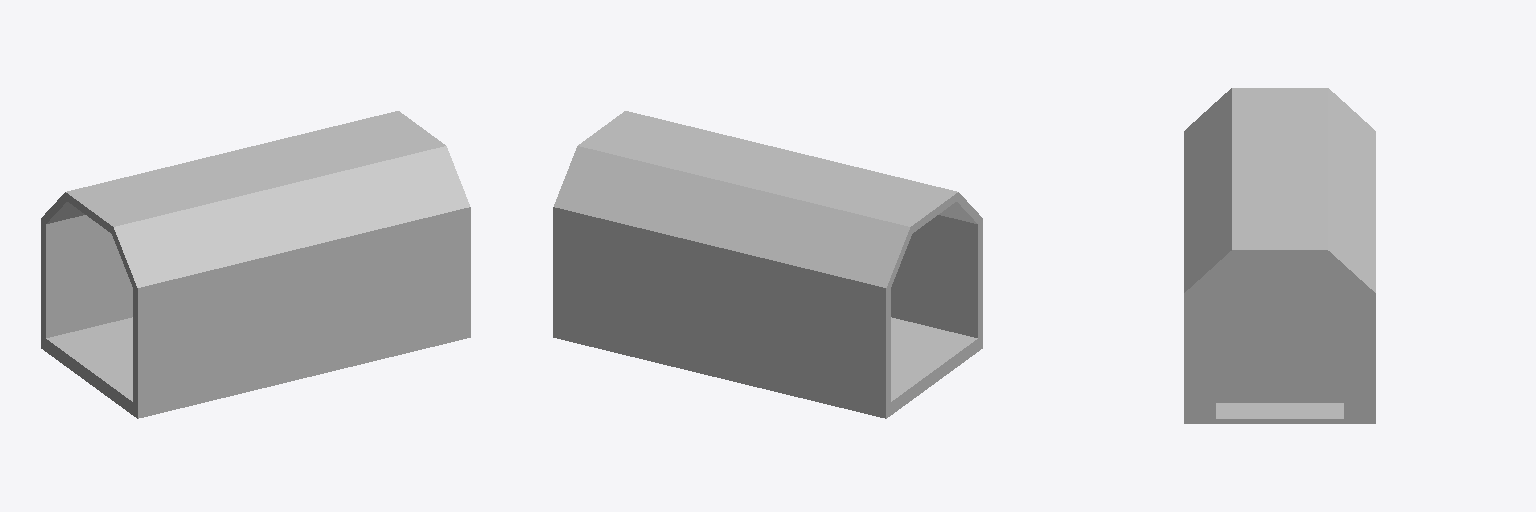
The model's file is tunnel.obj.
The picture shows the model from 3 angles: view 1: azimuth 30°, elevation 25°; view 2: azimuth 150°, elevation 25°; view 3: azimuth 270°, elevation 25°; orthographic projection.
Parts seen in each view (by area): view 1: Tunnel; view 2: Tunnel; view 3: Tunnel.
Boxes of the visible parts, <box> form: Tunnel: <box>41,111,470,418</box>; Tunnel: <box>553,111,982,418</box>; Tunnel: <box>1184,88,1375,423</box>.
Size of the model in its own units: 12 by 6 by 6.